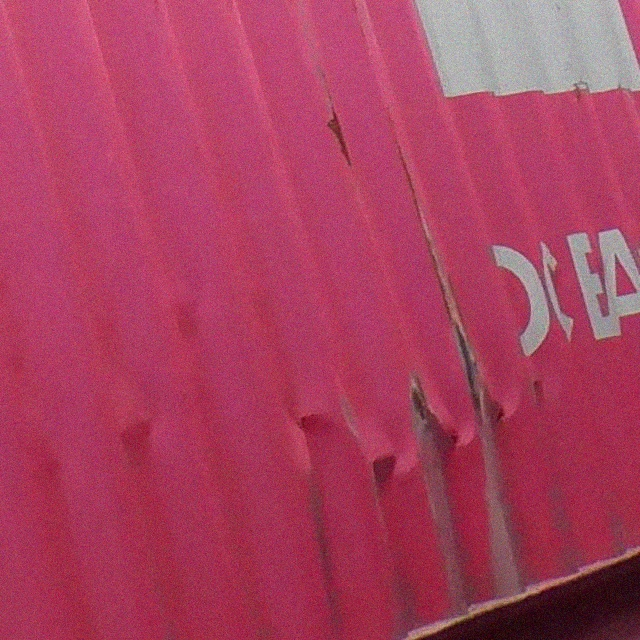Dent: (198, 344, 592, 532)
